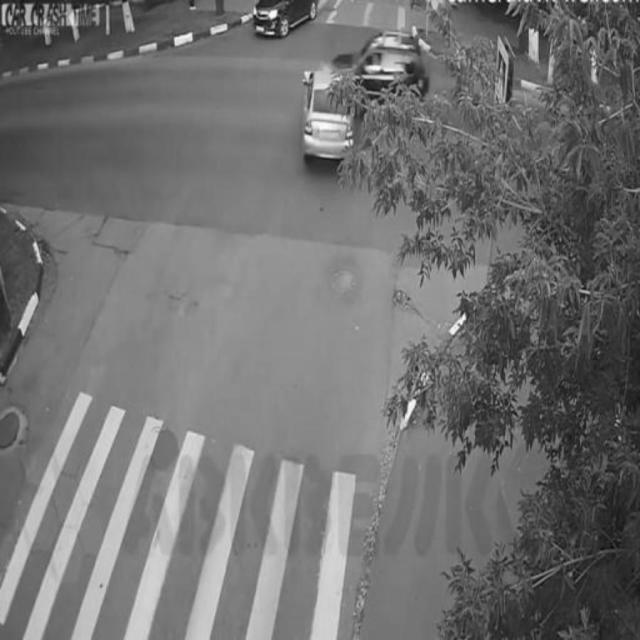accident: (308, 39, 426, 161)
vehicle: (252, 1, 325, 33)
